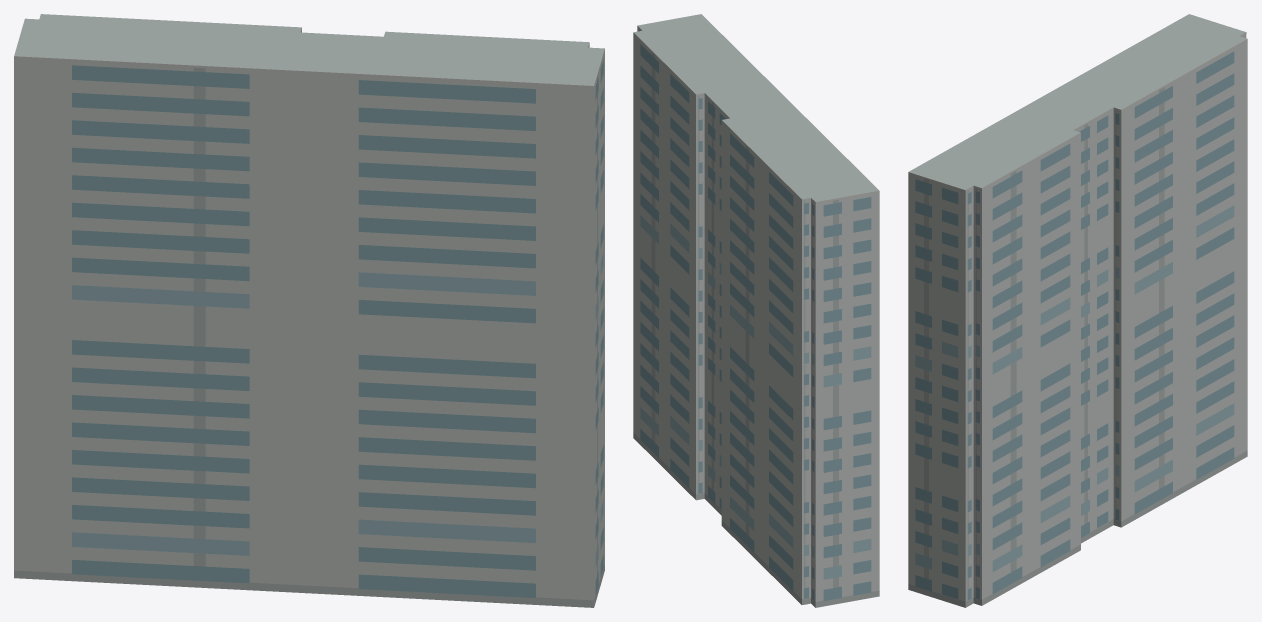
The model's file is residential-cfc715c3-aed7-4968-8409-11c3fe976159.glb.
3 views of the same model, side by side, from view 1: azimuth 30°, elevation 25°; view 2: azimuth 150°, elevation 25°; view 3: azimuth 270°, elevation 25° (orthographic). The views are drawn at different scales.
Visible parts, largest first — view 1: residential-cfc715c3-aed7-4968-8409-11c3fe976159.tmp; view 2: residential-cfc715c3-aed7-4968-8409-11c3fe976159.tmp; view 3: residential-cfc715c3-aed7-4968-8409-11c3fe976159.tmp.
Boxes of the visible parts, x1,y1,x2,y2 form: residential-cfc715c3-aed7-4968-8409-11c3fe976159.tmp: [14, 14, 604, 607]; residential-cfc715c3-aed7-4968-8409-11c3fe976159.tmp: [633, 14, 879, 607]; residential-cfc715c3-aed7-4968-8409-11c3fe976159.tmp: [908, 14, 1247, 607].
Bounding box in the file's own units: 51.57 × 57 × 41.99.
